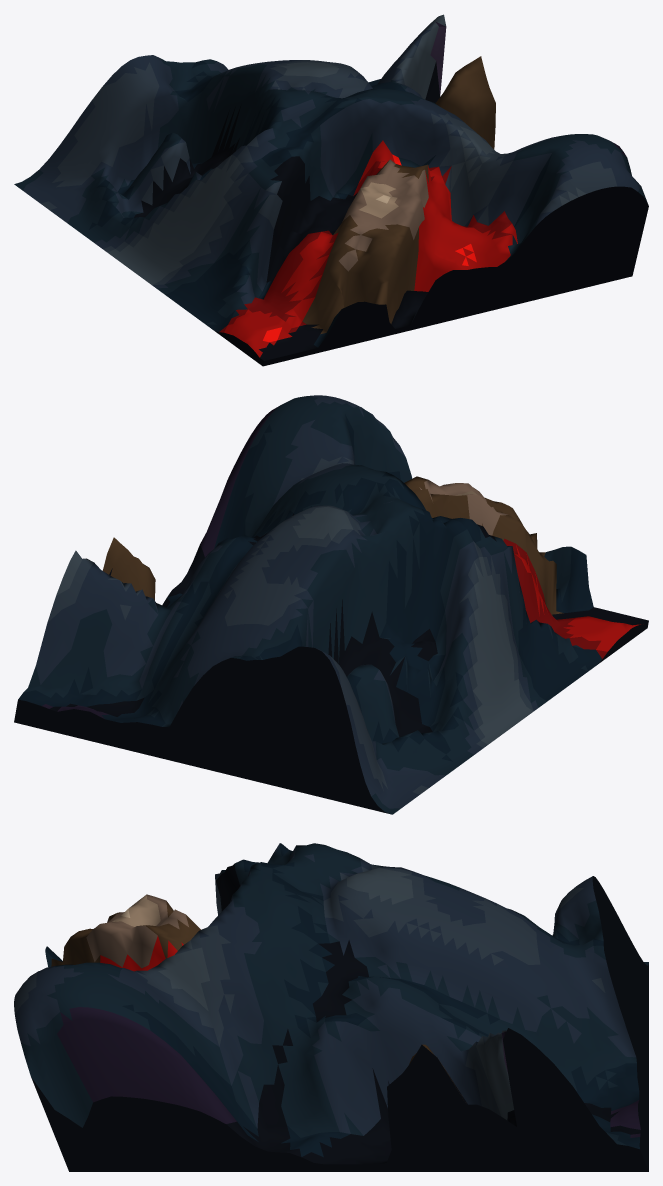
Rendered from gyges_maw_51.glb.
3 renders of one model, top to bottom at view 1: azimuth 30°, elevation 25°; view 2: azimuth 150°, elevation 25°; view 3: azimuth 270°, elevation 25°, orthographic. The views are drawn at different scales.
Parts seen in each view (by area): view 1: gyges_maw_51; view 2: gyges_maw_51; view 3: gyges_maw_51.
Part boxes in pixels (bbox=[...]): gyges_maw_51: bbox=[14, 14, 648, 366]; gyges_maw_51: bbox=[14, 395, 648, 814]; gyges_maw_51: bbox=[14, 843, 648, 1171].
Bounding box in the file's own units: 24 × 10.31 × 30.67.
